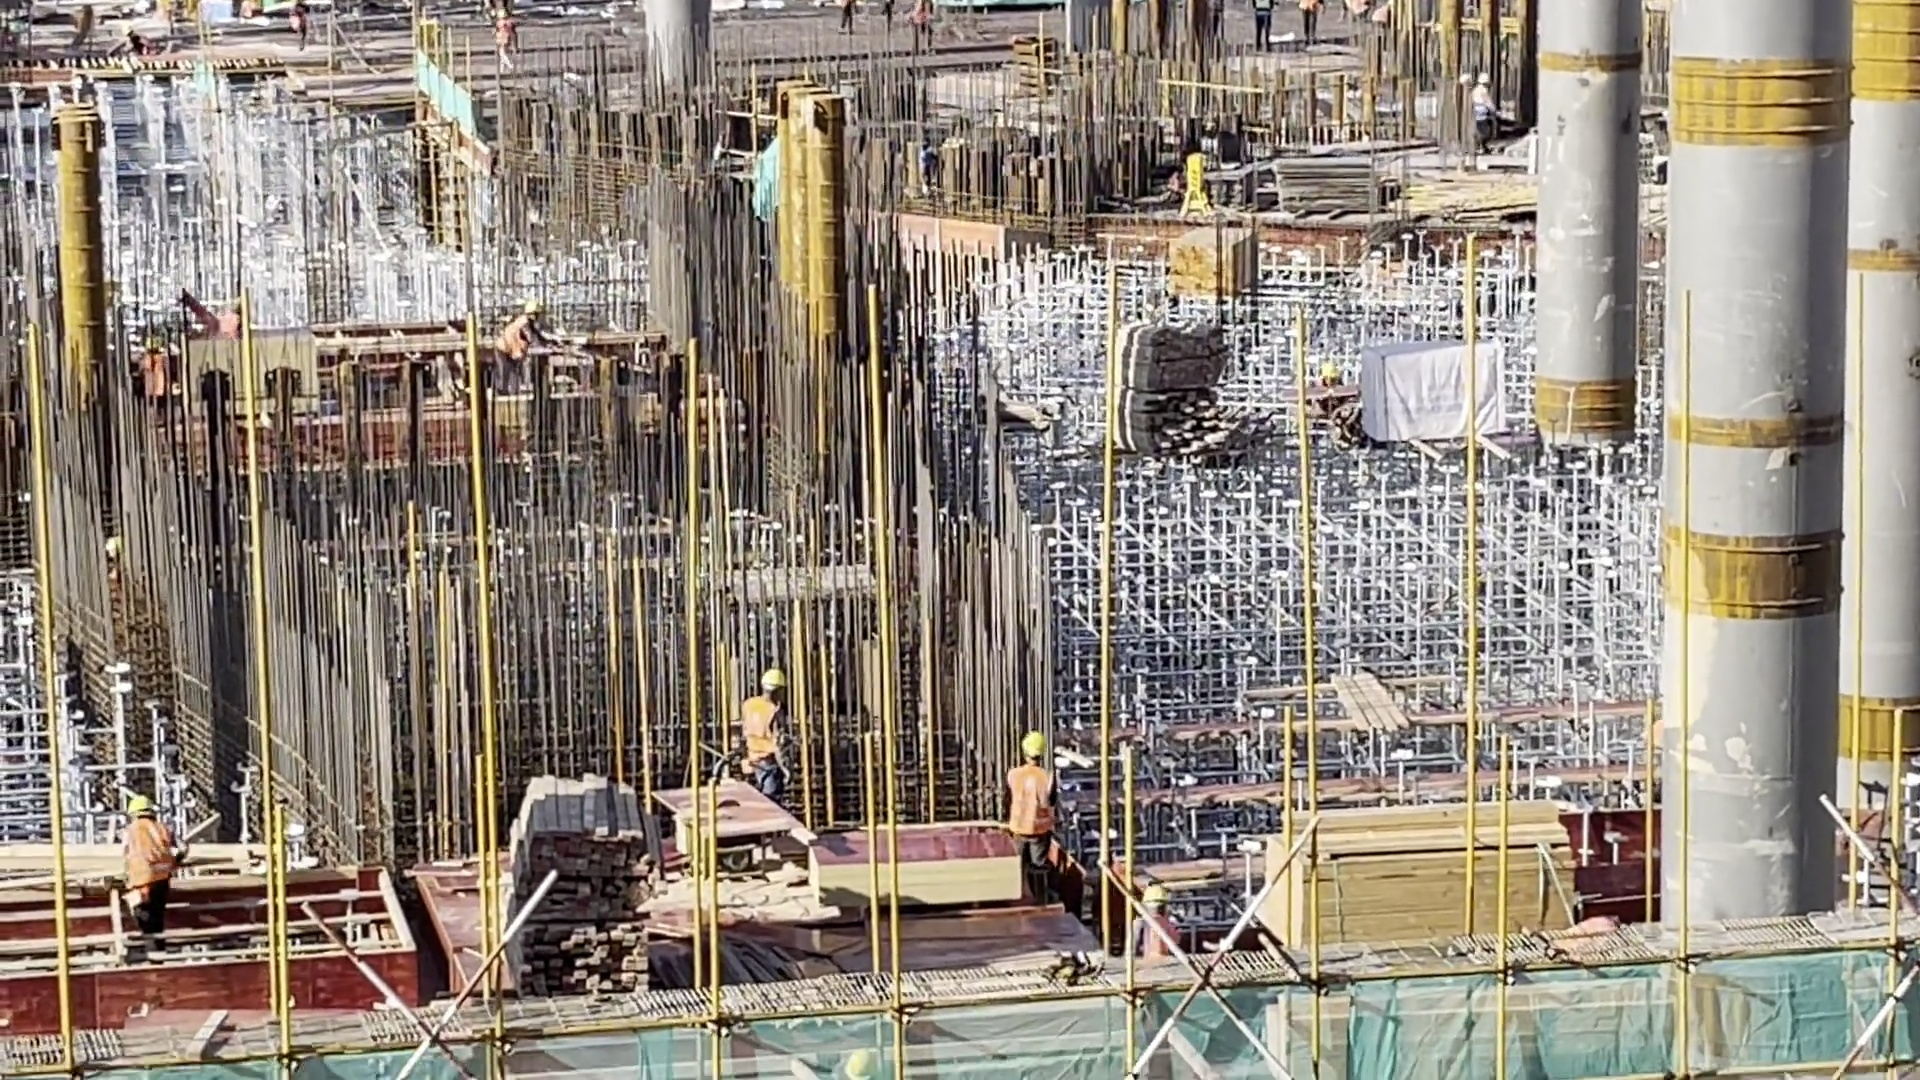helmet: (1020, 731, 1047, 759), (124, 797, 157, 819), (758, 667, 783, 688), (524, 297, 543, 316), (1474, 71, 1494, 85)
person: (1000, 731, 1058, 906), (116, 795, 184, 936), (735, 667, 800, 802), (496, 297, 549, 392), (1469, 69, 1503, 152), (493, 10, 523, 80), (1247, 1, 1277, 53), (908, 1, 938, 48), (830, 2, 864, 39), (1297, 1, 1324, 46), (286, 7, 311, 53), (120, 26, 154, 56), (1334, 1, 1369, 20), (1370, 1, 1387, 33)
vest: (122, 818, 174, 888), (1005, 767, 1057, 835), (742, 696, 779, 762), (501, 315, 532, 363), (1471, 88, 1491, 122)
